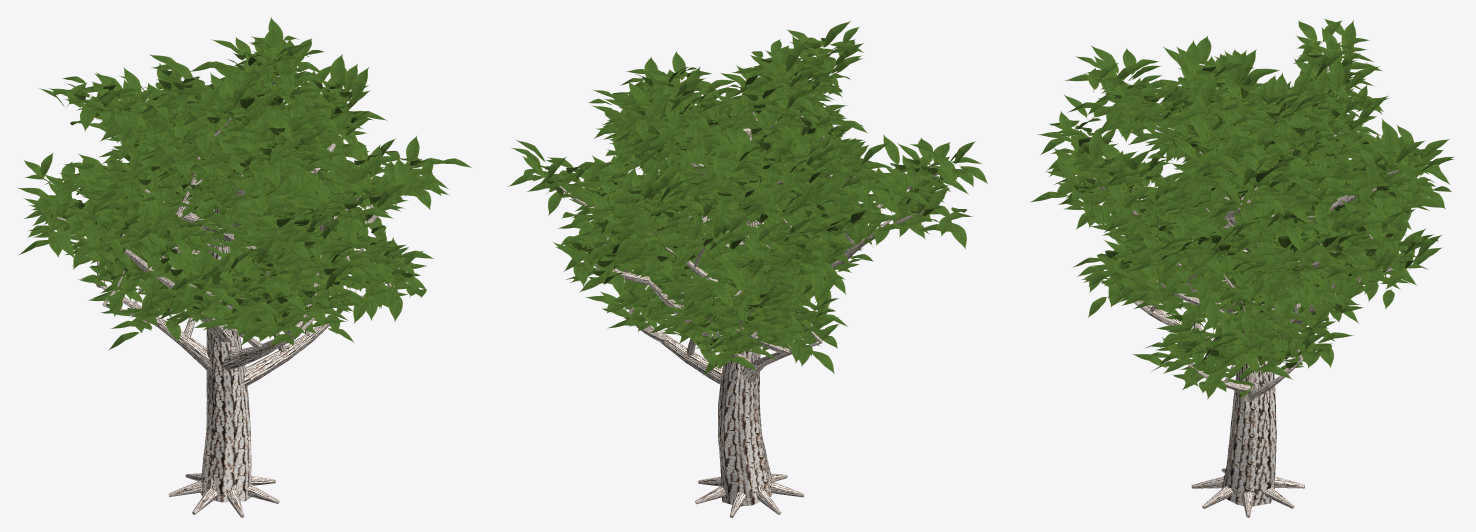
File: alder_round.glb
3 views of the same model, side by side, from view 1: azimuth 30°, elevation 25°; view 2: azimuth 150°, elevation 25°; view 3: azimuth 270°, elevation 25° (orthographic). The views are drawn at different scales.
Parts seen in each view (by area): view 1: Curved individual leaves, Branching trunk and exposed roots; view 2: Curved individual leaves, Branching trunk and exposed roots; view 3: Curved individual leaves, Branching trunk and exposed roots.
Boxes of the visible parts, left/top/right/bottom form: Curved individual leaves: left=17, top=17, right=471, bottom=350; Branching trunk and exposed roots: left=53, top=75, right=401, bottom=517; Curved individual leaves: left=508, top=21, right=987, bottom=375; Branching trunk and exposed roots: left=554, top=77, right=938, bottom=517; Curved individual leaves: left=1030, top=18, right=1454, bottom=399; Branching trunk and exposed roots: left=1088, top=66, right=1399, bottom=517.
Bounding box in the file's own units: 10.25 × 10.23 × 9.07.
Materials: 2 (2 with a texture image).
